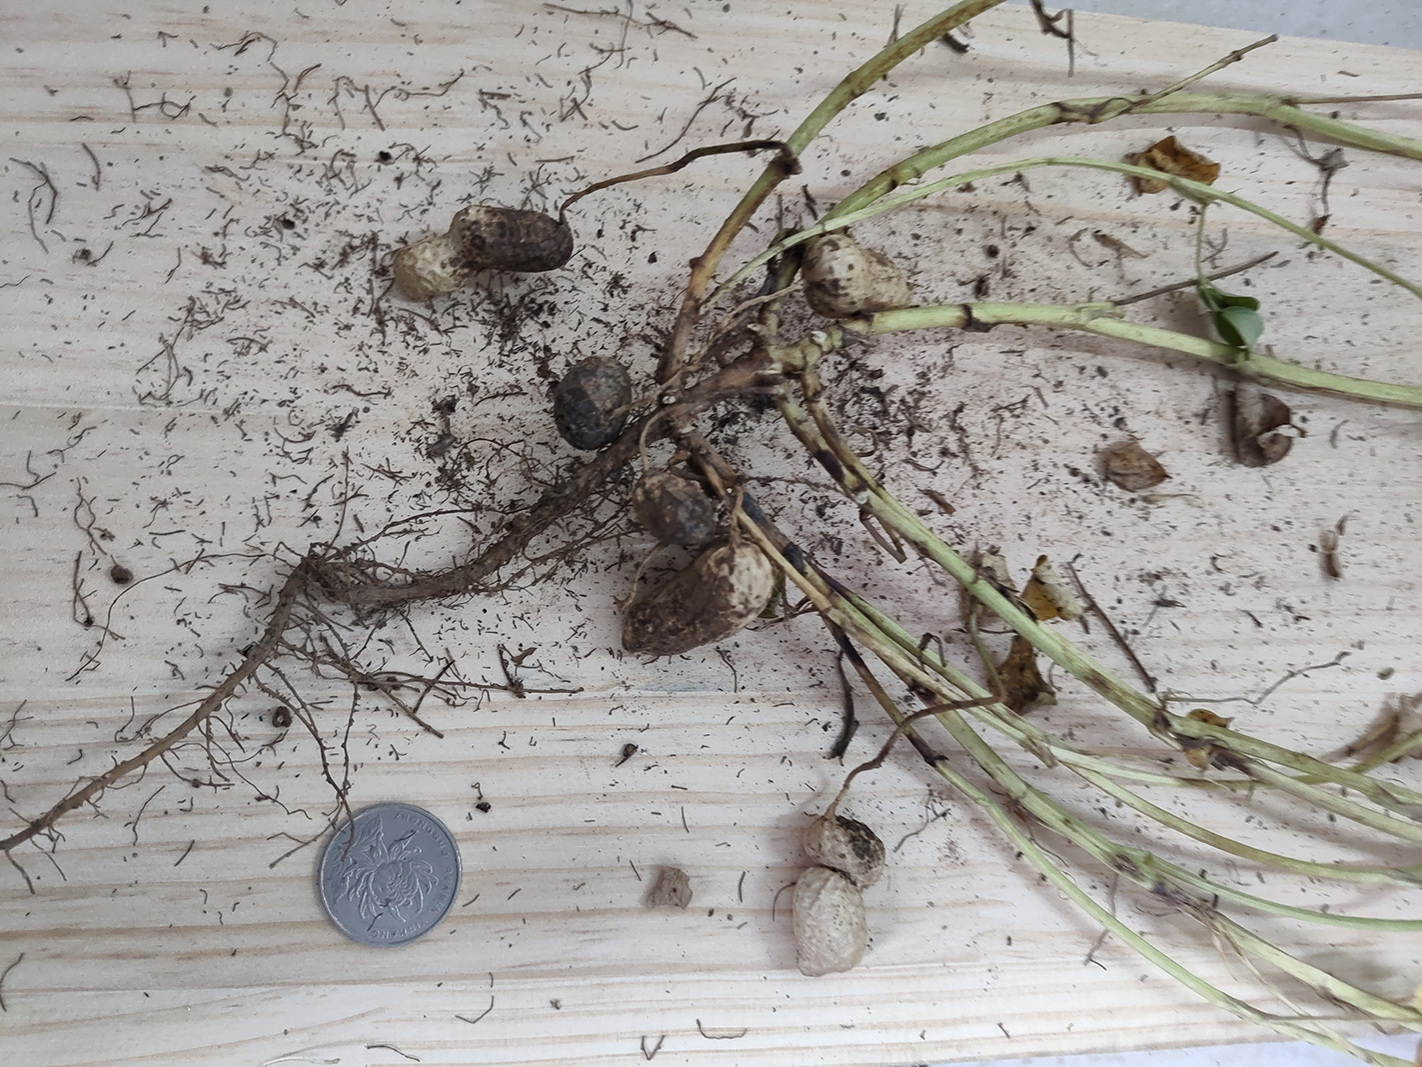h: (786, 811, 887, 974), (801, 236, 872, 315)
l: (392, 201, 574, 297), (623, 545, 775, 656), (559, 358, 631, 449), (634, 471, 716, 546)
